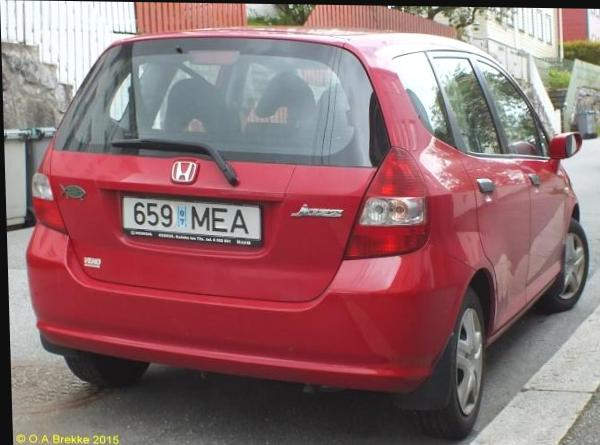License_Plate: (118, 190, 267, 251)
